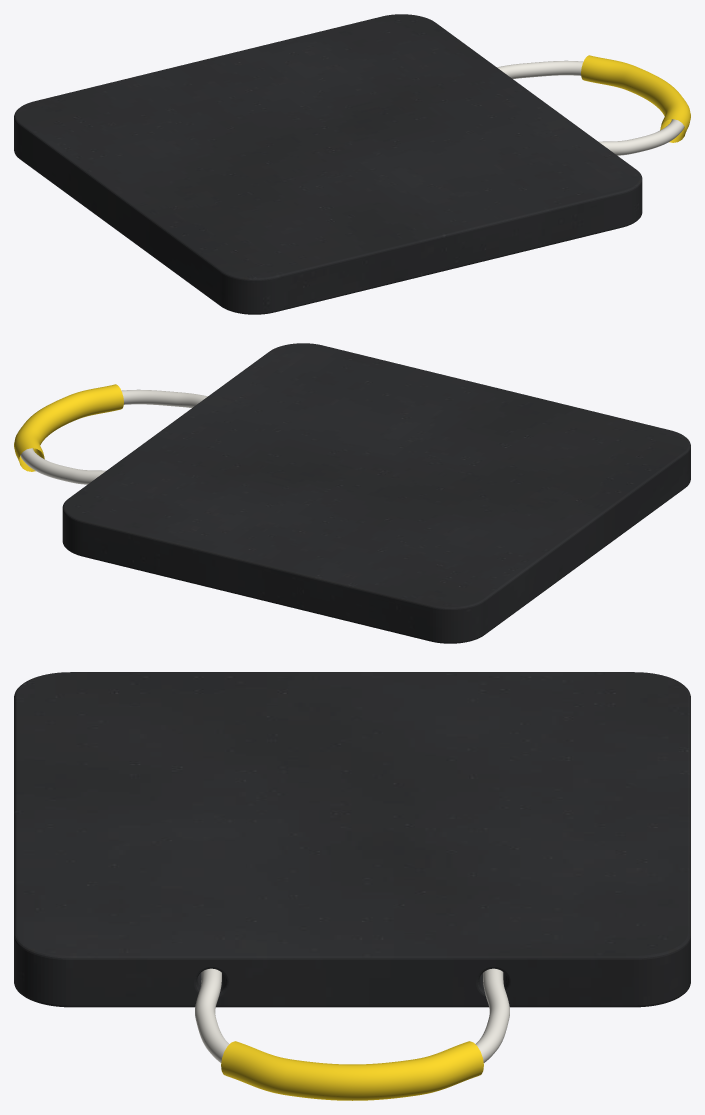
The picture shows the model from 3 angles, top to bottom: view 1: azimuth 30°, elevation 25°; view 2: azimuth 150°, elevation 25°; view 3: azimuth 270°, elevation 25°; orthographic projection. The views are drawn at different scales.
Visible parts, largest first — view 1: plate, sleeve, rope; view 2: plate, sleeve, rope; view 3: plate, sleeve, rope.
Part boxes in pixels (bbox=[...]): plate: bbox=[14, 14, 642, 314]; sleeve: bbox=[581, 55, 690, 142]; rope: bbox=[497, 60, 684, 155]; plate: bbox=[62, 343, 690, 643]; sleeve: bbox=[14, 384, 123, 471]; rope: bbox=[20, 389, 207, 484]; plate: bbox=[14, 672, 690, 1007]; sleeve: bbox=[221, 1041, 483, 1100]; rope: bbox=[195, 968, 509, 1062].
Bounding box in the file's own units: 0.4038 × 0.0282 × 0.3048.
3 materials, 1 textured.
